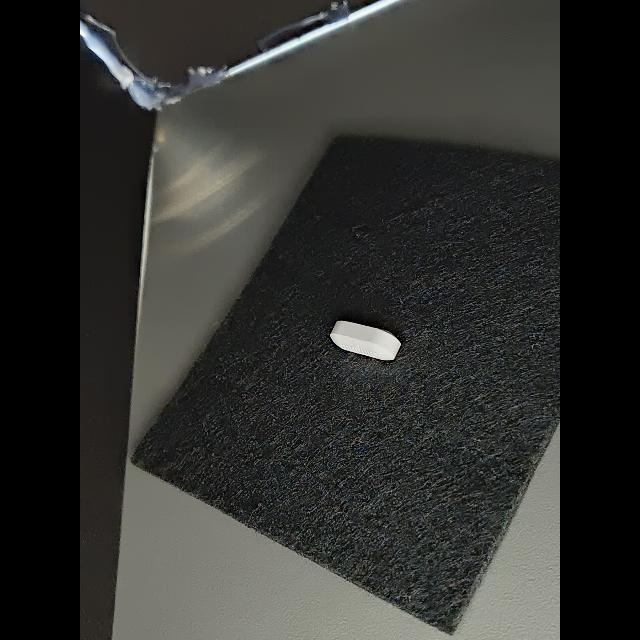Intact Pill: (330, 320, 401, 360)
